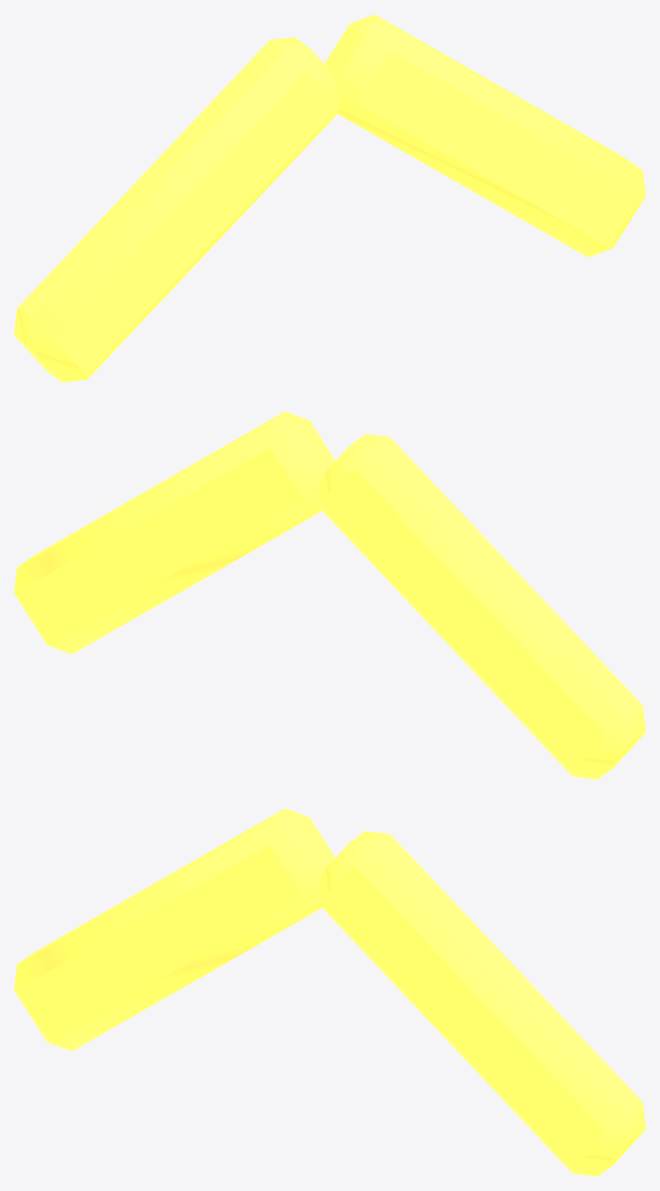
File: fx_tier2_x.glb
The picture shows the model from 3 angles, top to bottom: view 1: azimuth 30°, elevation 25°; view 2: azimuth 150°, elevation 25°; view 3: azimuth 330°, elevation 25°; orthographic projection.
Visible parts, largest first — view 1: fx_tier2_x; view 2: fx_tier2_x; view 3: fx_tier2_x.
Part boxes in pixels (bbox=[...]): fx_tier2_x: bbox=[14, 14, 645, 382]; fx_tier2_x: bbox=[14, 411, 645, 779]; fx_tier2_x: bbox=[14, 808, 645, 1176].
Bounding box in the file's own units: 0.6921 × 0.3004 × 0.07.
